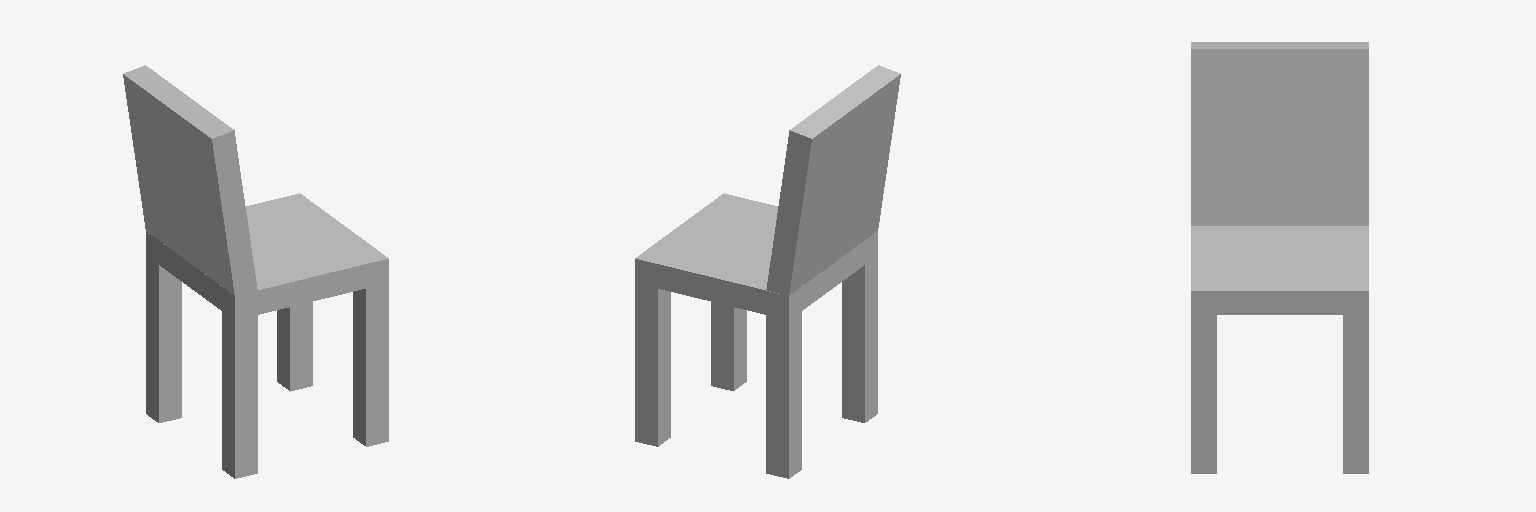
File: jail_Chair.obj
3 renders of one model, left to right at view 1: azimuth 30°, elevation 25°; view 2: azimuth 150°, elevation 25°; view 3: azimuth 270°, elevation 25°, orthographic.
Visible parts, largest first — view 1: Cube.005_Cube.012; view 2: Cube.005_Cube.012; view 3: Cube.005_Cube.012.
Boxes of the visible parts, box(x1,y1,x2,y2) form: Cube.005_Cube.012: box(123, 65, 388, 478); Cube.005_Cube.012: box(635, 65, 900, 478); Cube.005_Cube.012: box(1191, 42, 1368, 473).
Size of the model in its own units: 1.58 by 2.97 by 1.37.